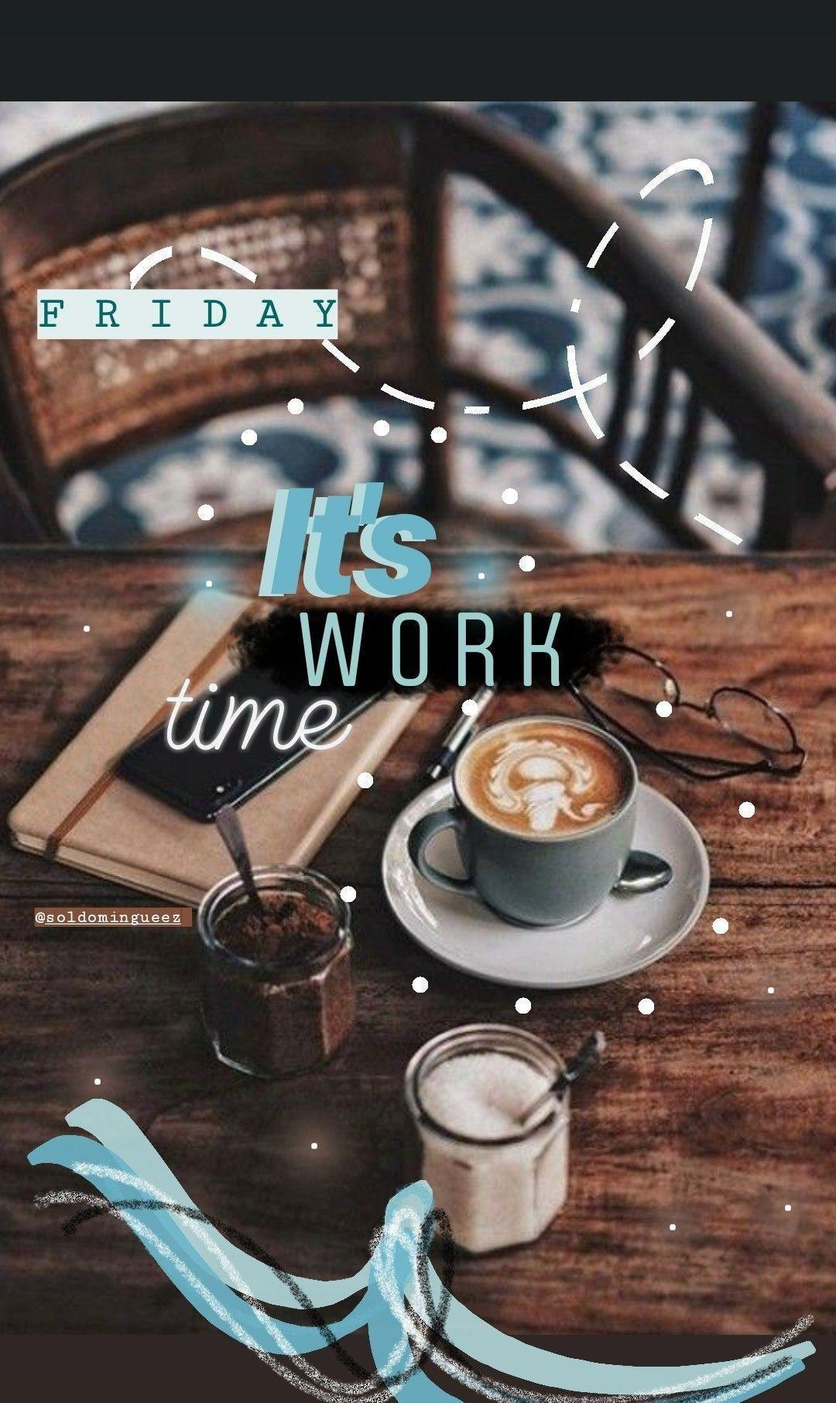cup-handle: (408, 712, 640, 928)
glass-normal: (406, 1024, 575, 1256), (197, 872, 352, 1084)
